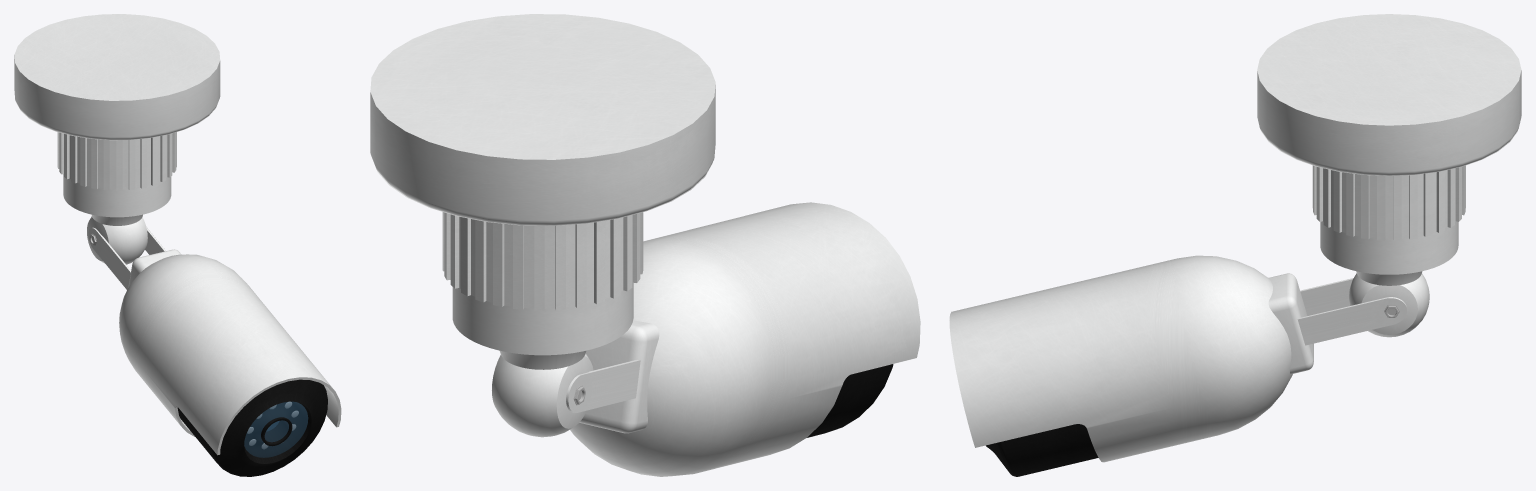
File: Security Camera.fbx
The picture shows the model from 3 angles, left to right: view 1: azimuth 30°, elevation 25°; view 2: azimuth 150°, elevation 25°; view 3: azimuth 270°, elevation 25°; orthographic projection. The views are drawn at different scales.
Parts seen in each view (by area): view 1: Sphere, Cube.014, Cube.003, Sphere.002; view 2: Sphere, Cube.014, Cube.003; view 3: Cube.014, Sphere, Cube.003.
Part boxes in pixels (x1,y1,x2,y2): Sphere: (14,14,220,264); Cube.014: (88,227,341,455); Cube.003: (177,379,327,476); Sphere.002: (244,401,308,457); Sphere: (370,14,715,437); Cube.014: (566,202,920,476); Cube.003: (807,364,893,437); Cube.014: (949,255,1406,462); Sphere: (1257,14,1521,337); Cube.003: (986,424,1098,476).
Size of the model in its own units: 255 by 425 by 551.
